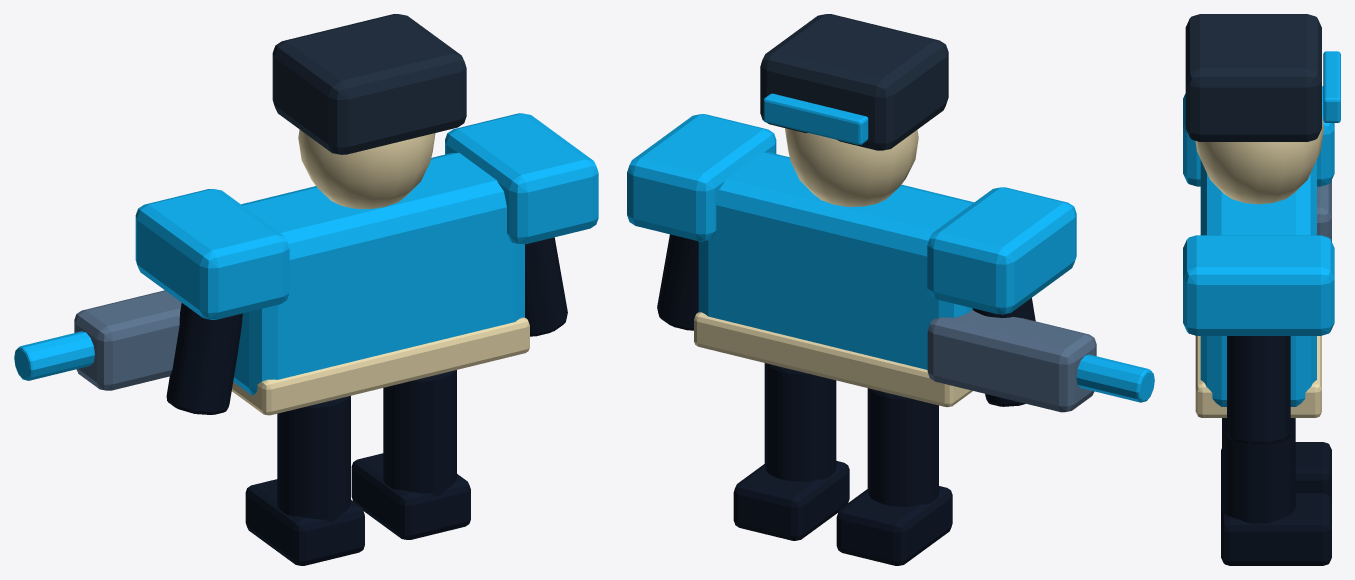
The model's file is cyan_duelist.obj.
3 views of the same model, side by side, from view 1: azimuth 30°, elevation 25°; view 2: azimuth 150°, elevation 25°; view 3: azimuth 270°, elevation 25° (orthographic). The views are drawn at different scales.
Parts seen in each view (by area): view 1: cyan_duelist_torso_M_cyan, cyan_duelist_helmet_M_gunmetal, cyan_duelist_shoulder_r_M_cyan, cyan_duelist_shoulder_l_M_cyan, cyan_duelist_belt_M_cream, cyan_duelist_leg_r_M_navy, cyan_duelist_leg_l_M_navy, cyan_duelist_blaster_M_steel, cyan_duelist_head_M_cream, cyan_duelist_arm_r_M_navy, cyan_duelist_boot_r_M_navy, cyan_duelist_boot_l_M_navy (+2 smaller); view 2: cyan_duelist_torso_M_cyan, cyan_duelist_helmet_M_gunmetal, cyan_duelist_shoulder_r_M_cyan, cyan_duelist_blaster_M_steel, cyan_duelist_shoulder_l_M_cyan, cyan_duelist_belt_M_cream, cyan_duelist_leg_l_M_navy, cyan_duelist_leg_r_M_navy, cyan_duelist_head_M_cream, cyan_duelist_boot_r_M_navy, cyan_duelist_boot_l_M_navy, cyan_duelist_arm_l_M_navy (+3 smaller); view 3: cyan_duelist_helmet_M_gunmetal, cyan_duelist_shoulder_l_M_cyan, cyan_duelist_torso_M_cyan, cyan_duelist_arm_l_M_navy, cyan_duelist_head_M_cream, cyan_duelist_boot_l_M_navy, cyan_duelist_leg_l_M_navy, cyan_duelist_belt_M_cream, cyan_duelist_boot_r_M_navy, cyan_duelist_shoulder_r_M_cyan, cyan_duelist_visor_M_cyan, cyan_duelist_blaster_M_steel.
Boxes of the visible parts, left/top/right/bottom form: cyan_duelist_torso_M_cyan: left=233, top=152, right=524, bottom=395; cyan_duelist_helmet_M_gunmetal: left=272, top=14, right=466, bottom=154; cyan_duelist_shoulder_r_M_cyan: left=135, top=189, right=289, bottom=319; cyan_duelist_shoulder_l_M_cyan: left=445, top=113, right=598, bottom=244; cyan_duelist_belt_M_cream: left=231, top=317, right=529, bottom=415; cyan_duelist_leg_r_M_navy: left=277, top=396, right=350, bottom=521; cyan_duelist_leg_l_M_navy: left=383, top=370, right=456, bottom=496; cyan_duelist_blaster_M_steel: left=74, top=290, right=181, bottom=390; cyan_duelist_head_M_cream: left=298, top=129, right=435, bottom=208; cyan_duelist_arm_r_M_navy: left=166, top=303, right=242, bottom=414; cyan_duelist_boot_r_M_navy: left=245, top=479, right=364, bottom=565; cyan_duelist_boot_l_M_navy: left=351, top=453, right=470, bottom=539; cyan_duelist_torso_M_cyan: left=698, top=152, right=973, bottom=369; cyan_duelist_helmet_M_gunmetal: left=760, top=14, right=948, bottom=150; cyan_duelist_shoulder_r_M_cyan: left=927, top=187, right=1076, bottom=314; cyan_duelist_blaster_M_steel: left=927, top=310, right=1096, bottom=412; cyan_duelist_shoulder_l_M_cyan: left=627, top=114, right=776, bottom=241; cyan_duelist_belt_M_cream: left=694, top=312, right=972, bottom=407; cyan_duelist_leg_l_M_navy: left=764, top=363, right=836, bottom=481; cyan_duelist_leg_r_M_navy: left=867, top=388, right=938, bottom=506; cyan_duelist_head_M_cream: left=785, top=128, right=918, bottom=206; cyan_duelist_boot_r_M_navy: left=836, top=486, right=952, bottom=565; cyan_duelist_boot_l_M_navy: left=733, top=461, right=849, bottom=540; cyan_duelist_arm_l_M_navy: left=657, top=234, right=698, bottom=330; cyan_duelist_helmet_M_gunmetal: left=1185, top=14, right=1321, bottom=141; cyan_duelist_shoulder_l_M_cyan: left=1183, top=235, right=1334, bottom=335; cyan_duelist_torso_M_cyan: left=1200, top=160, right=1316, bottom=406; cyan_duelist_arm_l_M_navy: left=1227, top=336, right=1290, bottom=444; cyan_duelist_head_M_cream: left=1195, top=115, right=1323, bottom=204; cyan_duelist_boot_l_M_navy: left=1221, top=493, right=1331, bottom=565; cyan_duelist_leg_l_M_navy: left=1222, top=418, right=1295, bottom=523; cyan_duelist_belt_M_cream: left=1195, top=336, right=1321, bottom=417; cyan_duelist_boot_r_M_navy: left=1221, top=442, right=1331, bottom=500; cyan_duelist_shoulder_r_M_cyan: left=1183, top=86, right=1334, bottom=186; cyan_duelist_visor_M_cyan: left=1323, top=51, right=1340, bottom=122; cyan_duelist_blaster_M_steel: left=1317, top=180, right=1331, bottom=241.
Bounding box in the file's own units: 1.19 × 1.06 × 0.3125.
